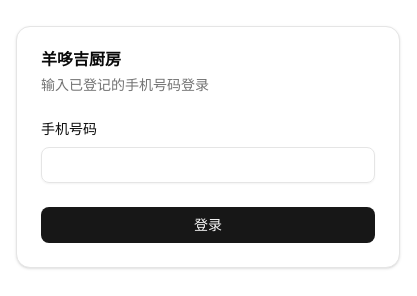
Test case: LoginPage › 接口拒绝时展示返回的错误并保留输入
Type "13800000009" into the field labelled "手机号码". click: [208, 165]
box: [41,147,375,183]
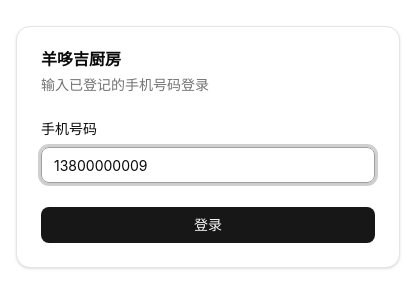
Click the button "登录". click: [208, 225]
box: [41,207,375,243]
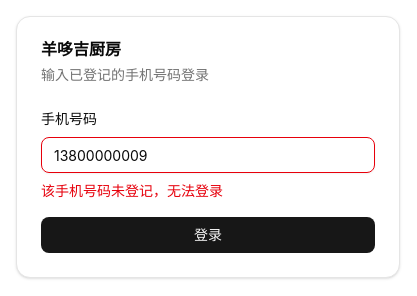
Expected: the text "该手机号码未登记，无法登录" is shown, [41,182,223,199]
